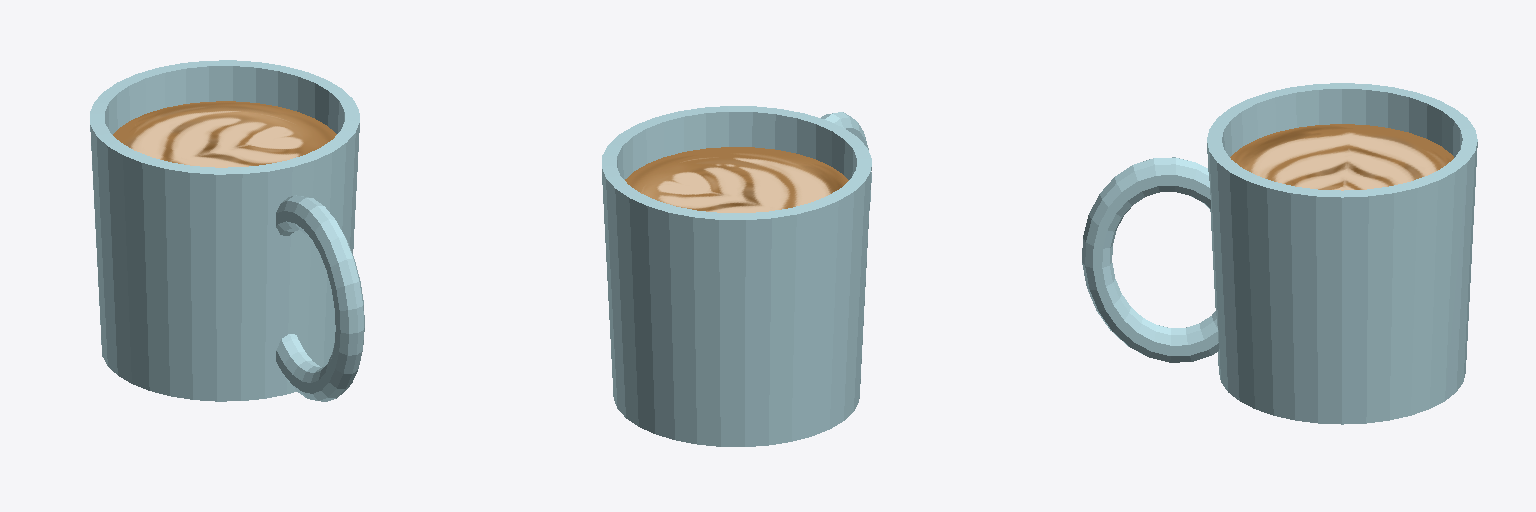
3 renders of one model, left to right at view 1: azimuth 30°, elevation 25°; view 2: azimuth 150°, elevation 25°; view 3: azimuth 270°, elevation 25°, orthographic.
Visible parts, largest first — view 1: Cone, Cone.001, Torus.001; view 2: Cone, Cone.001, Torus.001; view 3: Cone, Torus.001, Cone.001.
Part boxes in pixels (x1,y1,x2,y2): Cone: (90, 60, 359, 401); Cone.001: (113, 101, 336, 167); Torus.001: (276, 195, 364, 401); Cone: (602, 106, 871, 446); Cone.001: (625, 147, 848, 212); Torus.001: (821, 112, 871, 210); Cone: (1207, 83, 1477, 424); Torus.001: (1082, 157, 1218, 362); Cone.001: (1230, 124, 1453, 190).
Bounding box in the file's own units: 0.18 × 0.1705 × 0.2628.
3 materials, 1 textured.